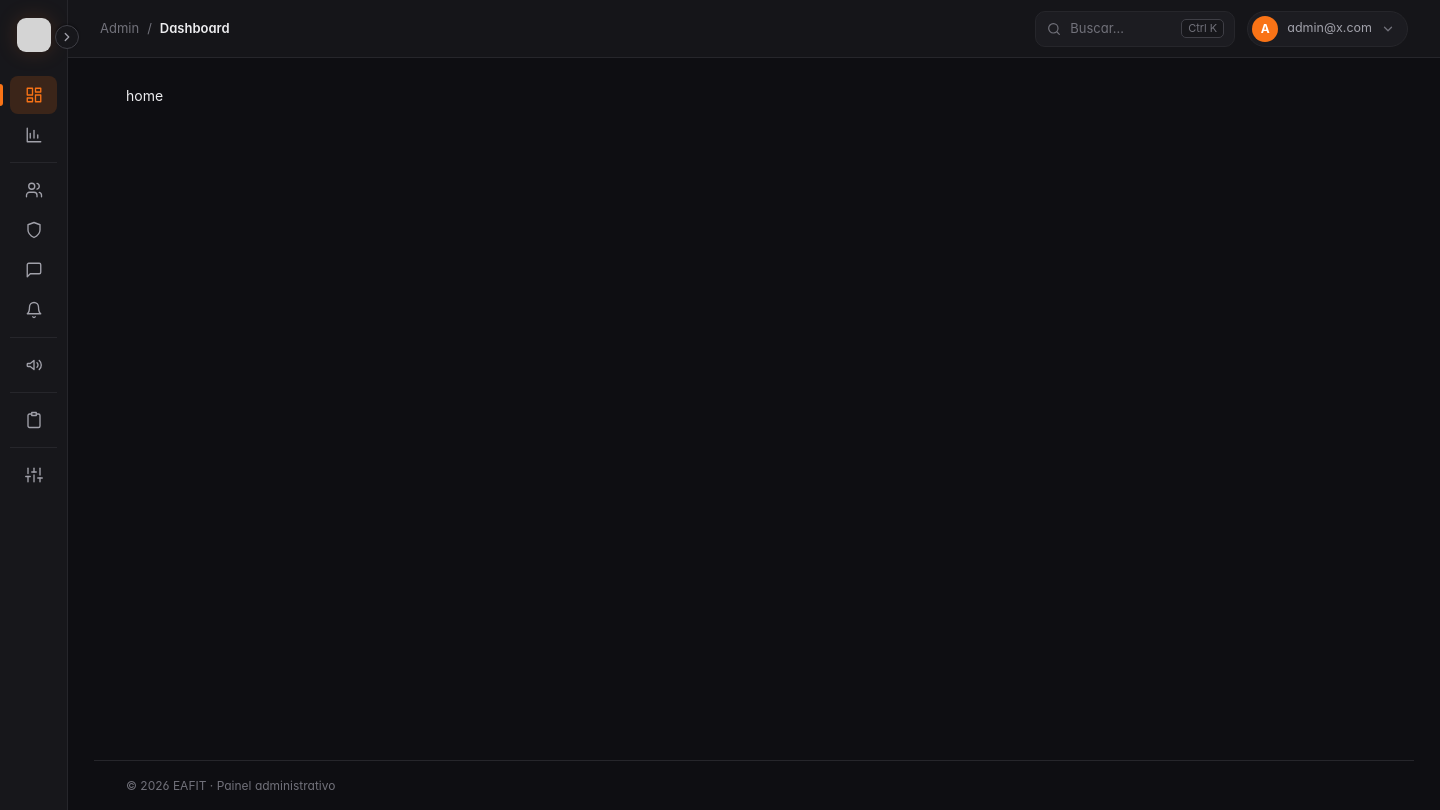
Test: Layout › menu começa recolhido e a seta expande e lembra a escolha
Expected: the element with class "sidebar--collapsed" is shown, [0,0,68,809]
What coordinates should you click on to do the following:
click the button named "Expandir menu"
I would click on:
 (67, 37)
Its box is [55,25,79,49].
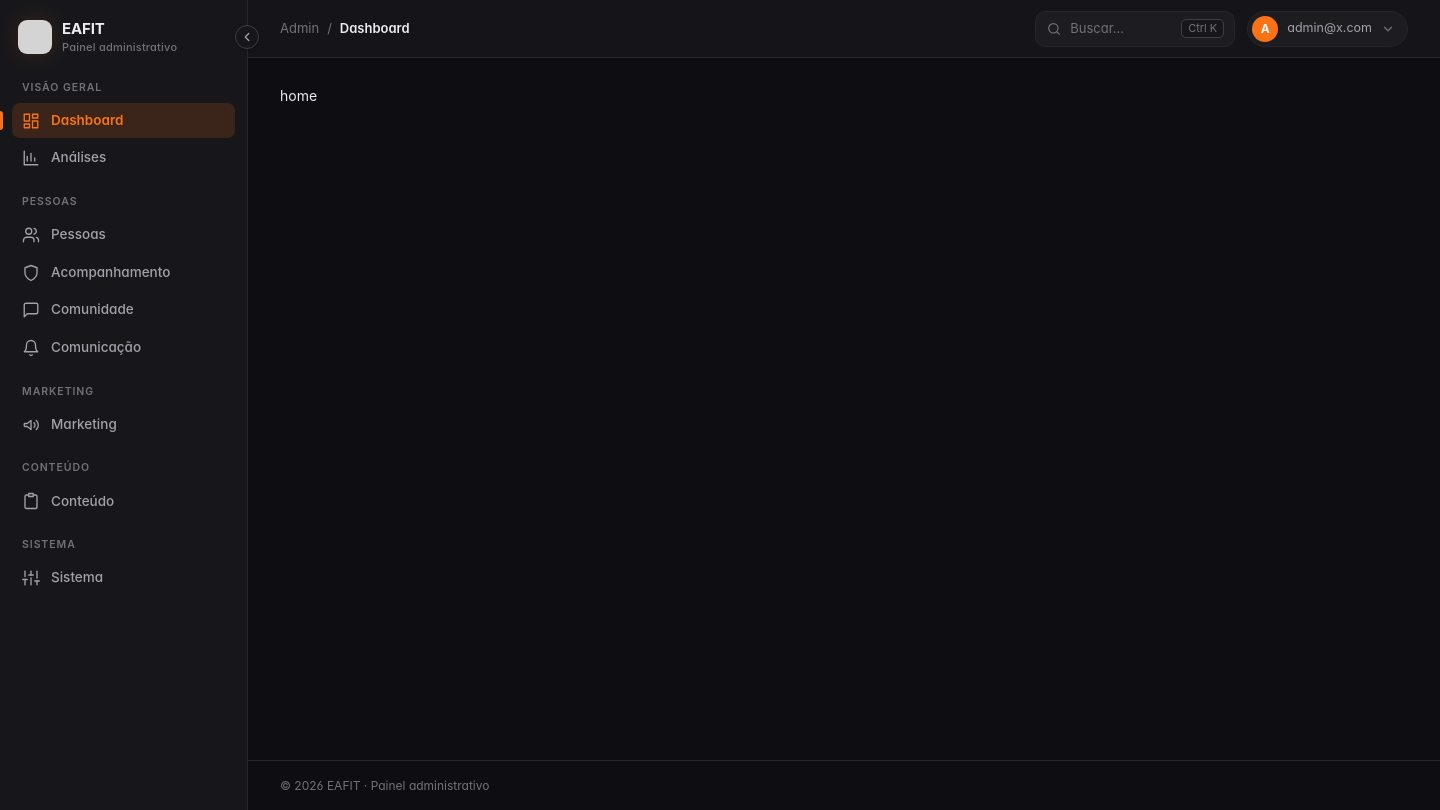
Expected: the button named "Recolher menu" is expanded, [235,25,259,49]
